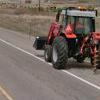Tractor: (27, 5, 100, 78)
